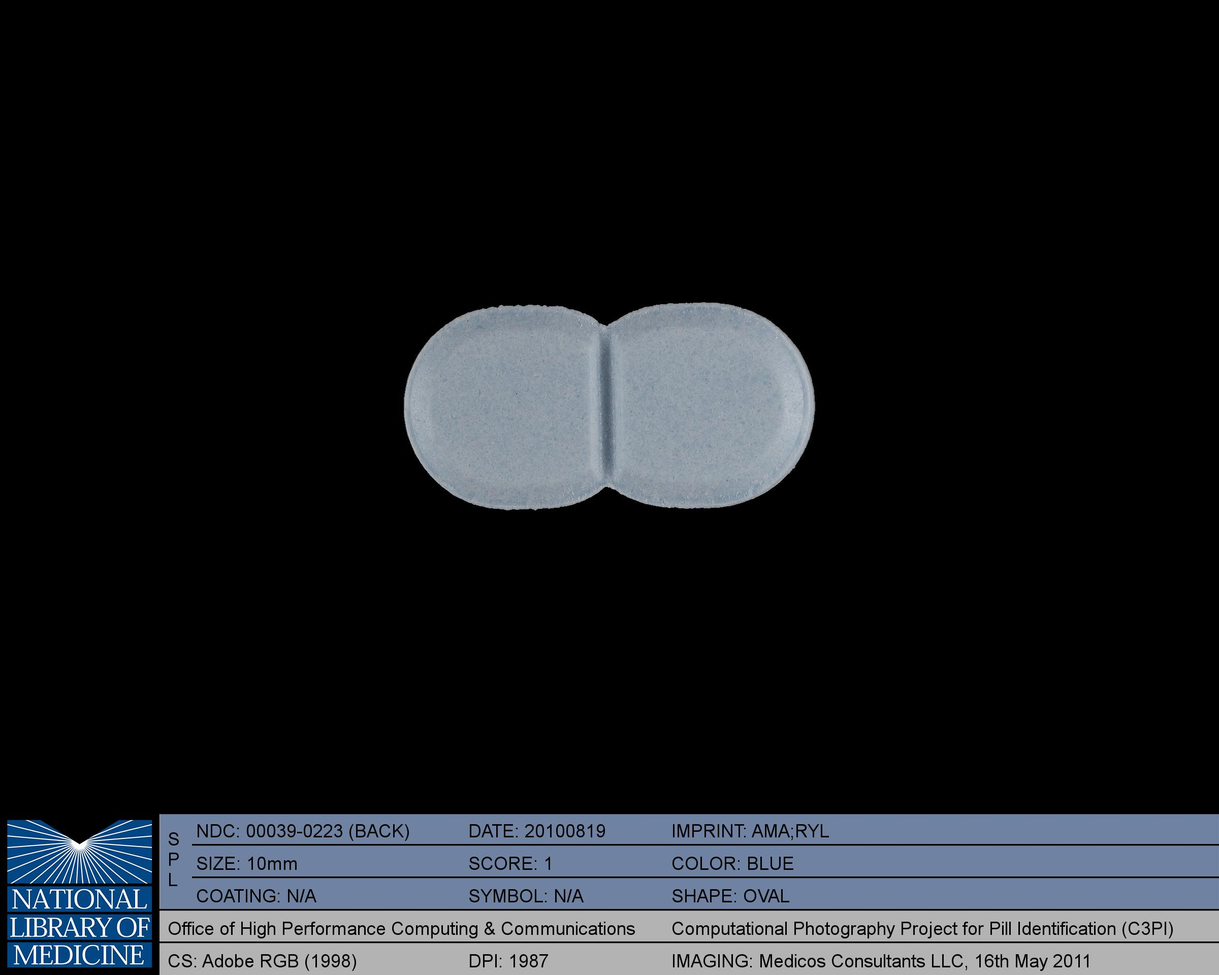Pill: (368, 282, 832, 525)
